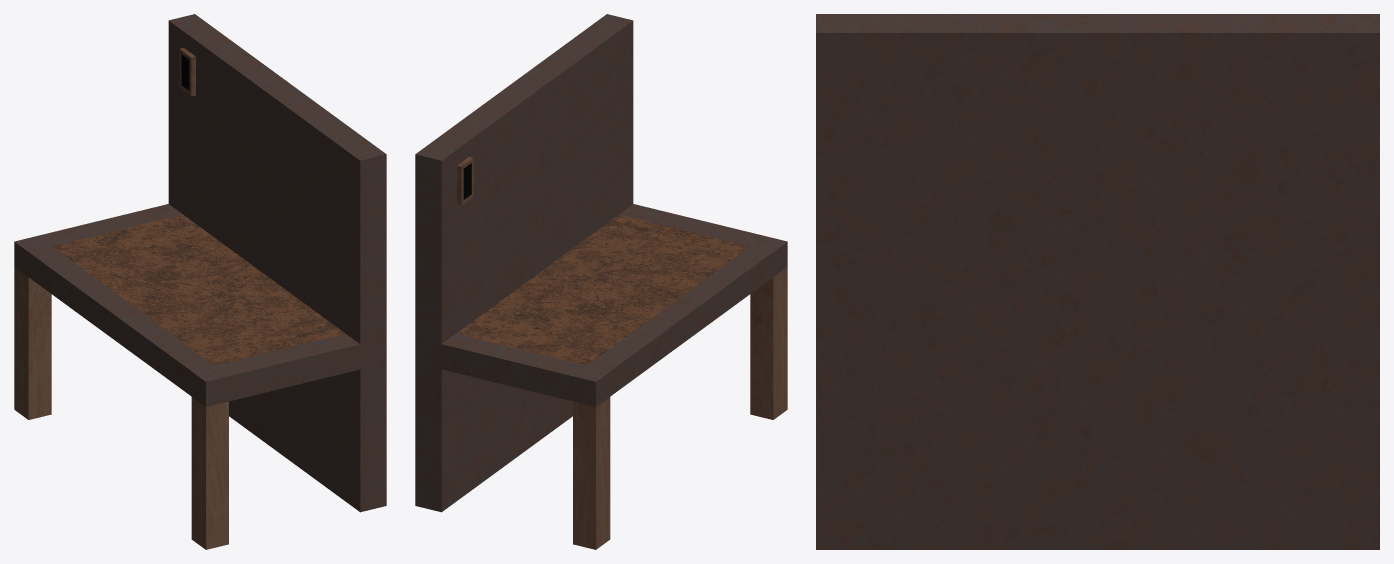
The model's file is WorktableRight.fbx.
3 renders of one model, left to right at view 1: azimuth 30°, elevation 25°; view 2: azimuth 150°, elevation 25°; view 3: azimuth 270°, elevation 25°, orthographic. The views are drawn at different scales.
Visible parts, largest first — view 1: Baked Workbench Right, Baked Button Right; view 2: Baked Workbench Right, Baked Button Right; view 3: Baked Workbench Right.
Part boxes in pixels (<box>): Baked Workbench Right: <box>14,14,386,549</box>; Baked Button Right: <box>179,47,195,96</box>; Baked Workbench Right: <box>415,14,787,549</box>; Baked Button Right: <box>457,156,473,205</box>; Baked Workbench Right: <box>816,14,1379,549</box>.
Bounding box in the file's own units: 54.42 × 101 × 100.
Materials: 2 (2 with a texture image).
